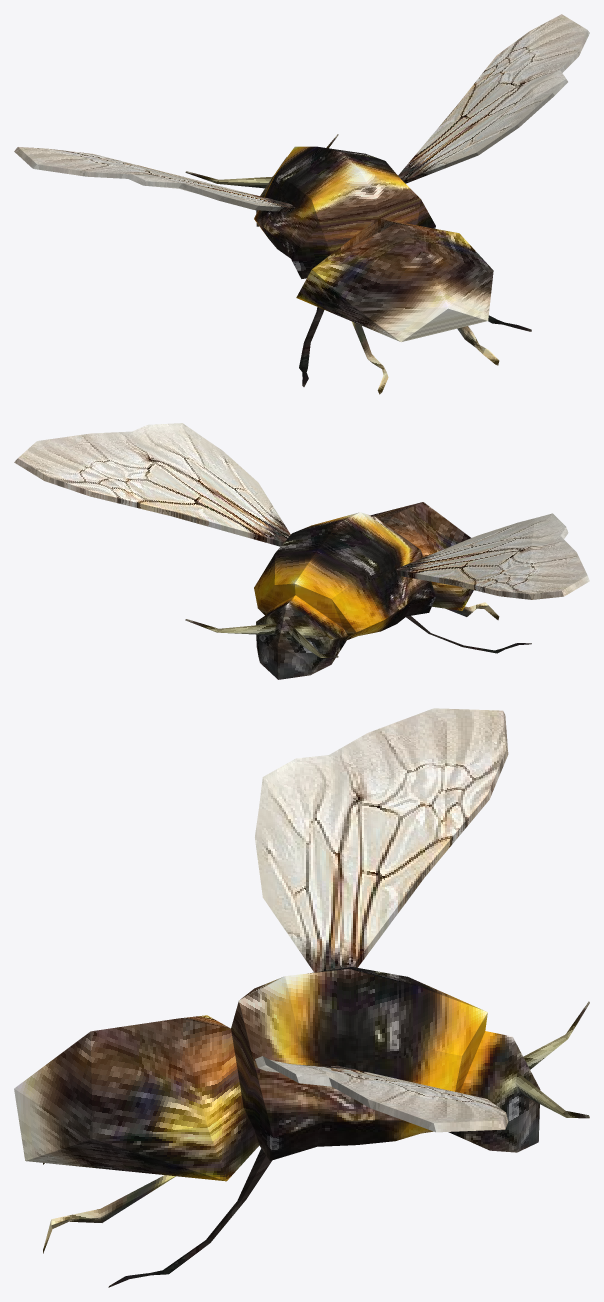
File: bumblebee.glb
3 renders of one model, top to bottom at view 1: azimuth 30°, elevation 25°; view 2: azimuth 150°, elevation 25°; view 3: azimuth 270°, elevation 25°, orthographic. The views are drawn at different scales.
Parts seen in each view (by area): view 1: Icosphere.002; view 2: Icosphere.002; view 3: Icosphere.002.
Boxes of the visible parts, x1,y1,x2,y2 form: Icosphere.002: [14, 14, 589, 394]; Icosphere.002: [14, 423, 589, 679]; Icosphere.002: [14, 708, 589, 1287].
Size of the model in its own units: 3.64 by 1.19 by 2.11.
Materials: 2 (2 with a texture image).
